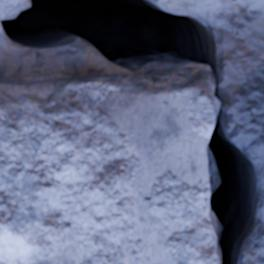brick: (0, 70, 219, 263)
broken_brick: (0, 0, 27, 18)
crack: (0, 0, 263, 263)
